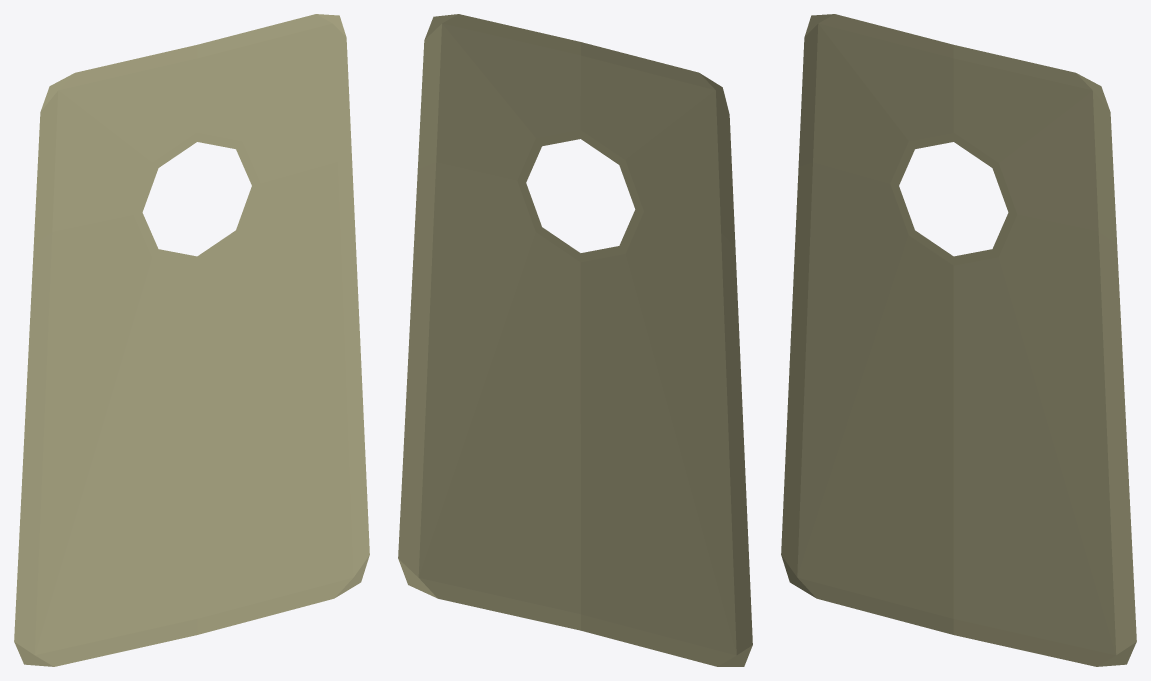
Rendered from egypt_shield_a_back.dae.
3 renders of one model, left to right at view 1: azimuth 30°, elevation 25°; view 2: azimuth 150°, elevation 25°; view 3: azimuth 330°, elevation 25°, orthographic.
Parts seen in each view (by area): view 1: Plane_001; view 2: Plane_001; view 3: Plane_001.
Boxes of the visible parts, box(x1,y1,x2,y2) form: Plane_001: box(14, 14, 369, 666); Plane_001: box(398, 14, 752, 666); Plane_001: box(781, 14, 1136, 666).
Size of the model in its own units: 1.63 by 0.0432 by 2.58.
